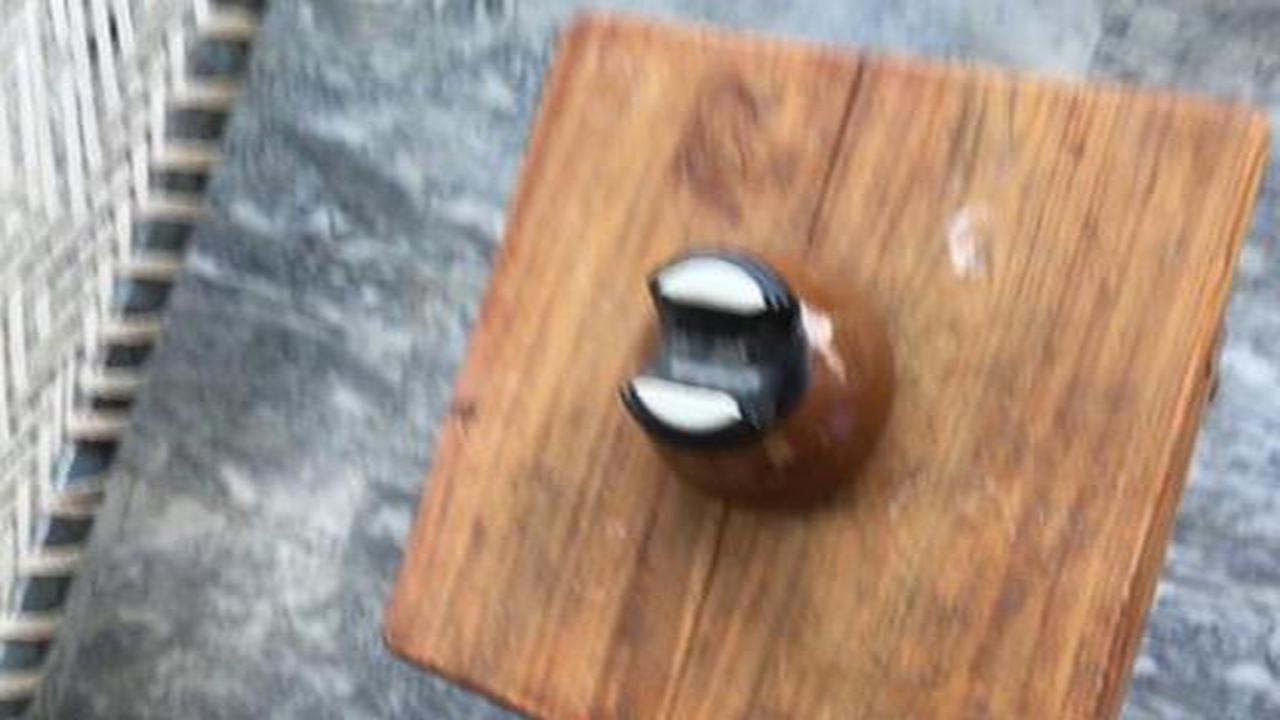insulator_pin: (610, 232, 921, 528)
